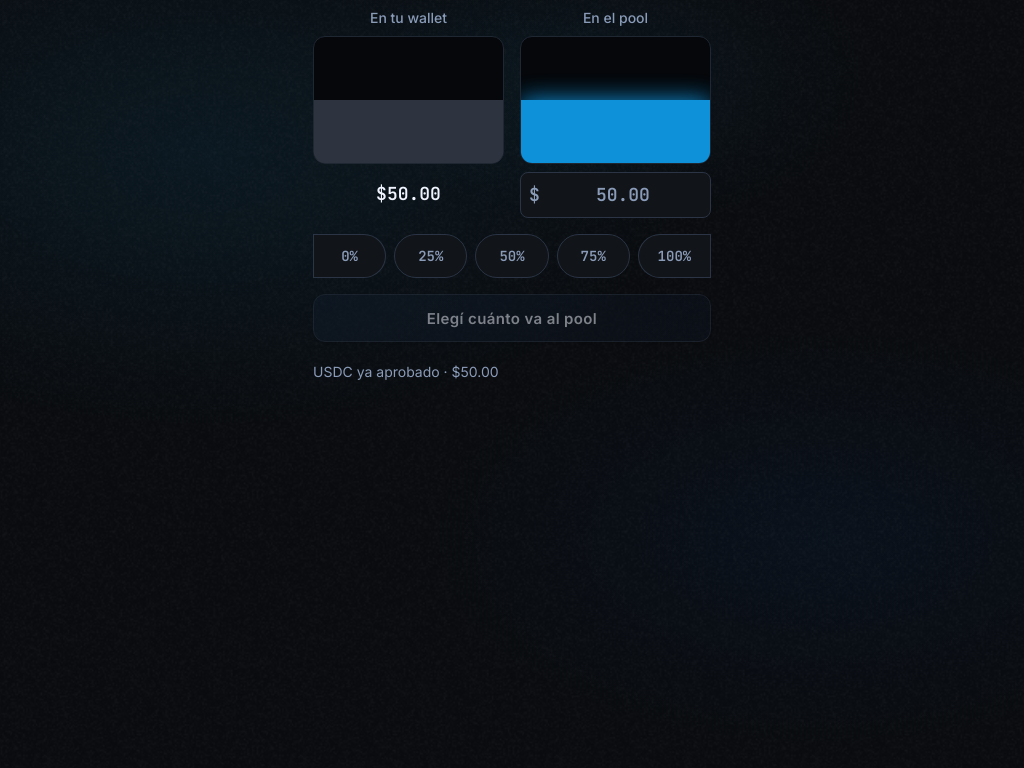
Test: MoveScreen › a target above the current position offers a deposit
Type "60" into the field named "Cuánto querés tener en el pool" at (623, 195), box [544,173,702,217]
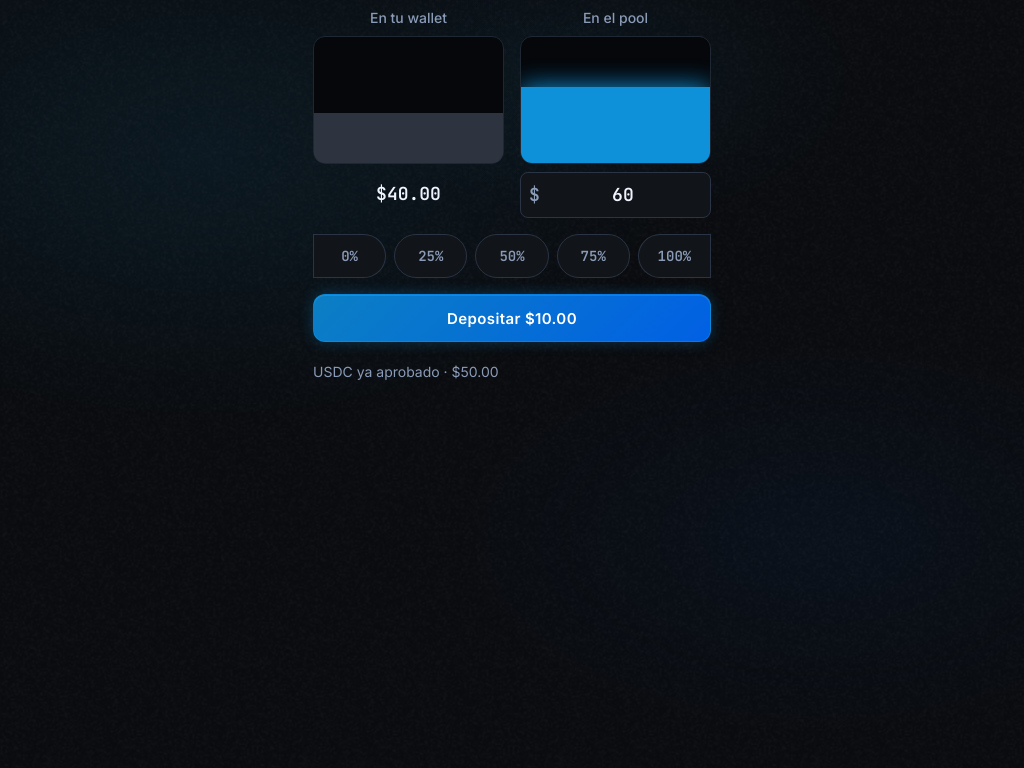
Now the button "Depositar $10.00" is enabled, box [313,294,711,342]
